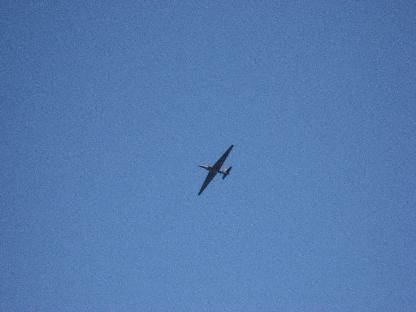Tu160: (197, 144, 234, 194)
